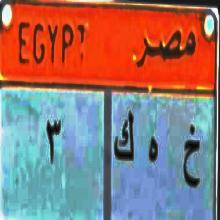3: (46, 115, 62, 172)
haa: (144, 130, 162, 178)
kaaf: (112, 112, 136, 168)
khaa: (180, 124, 203, 196)
